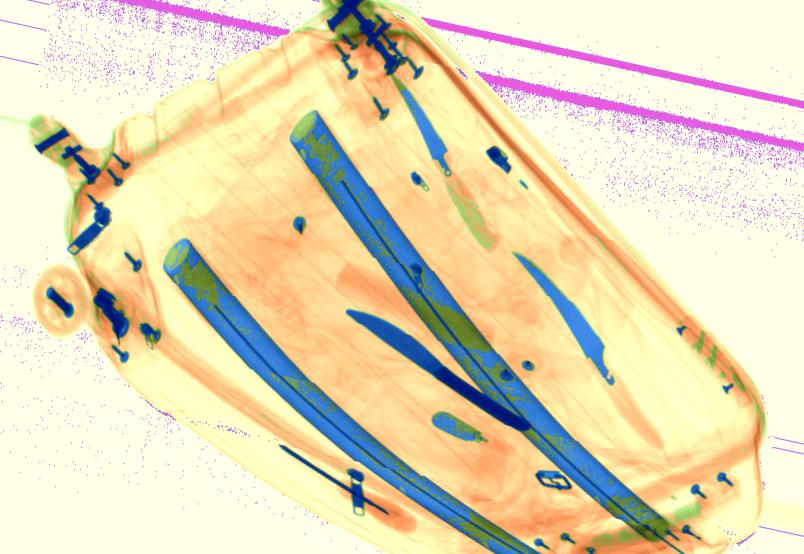Knife: (343, 308, 532, 432), (509, 249, 668, 396), (390, 72, 500, 252)
